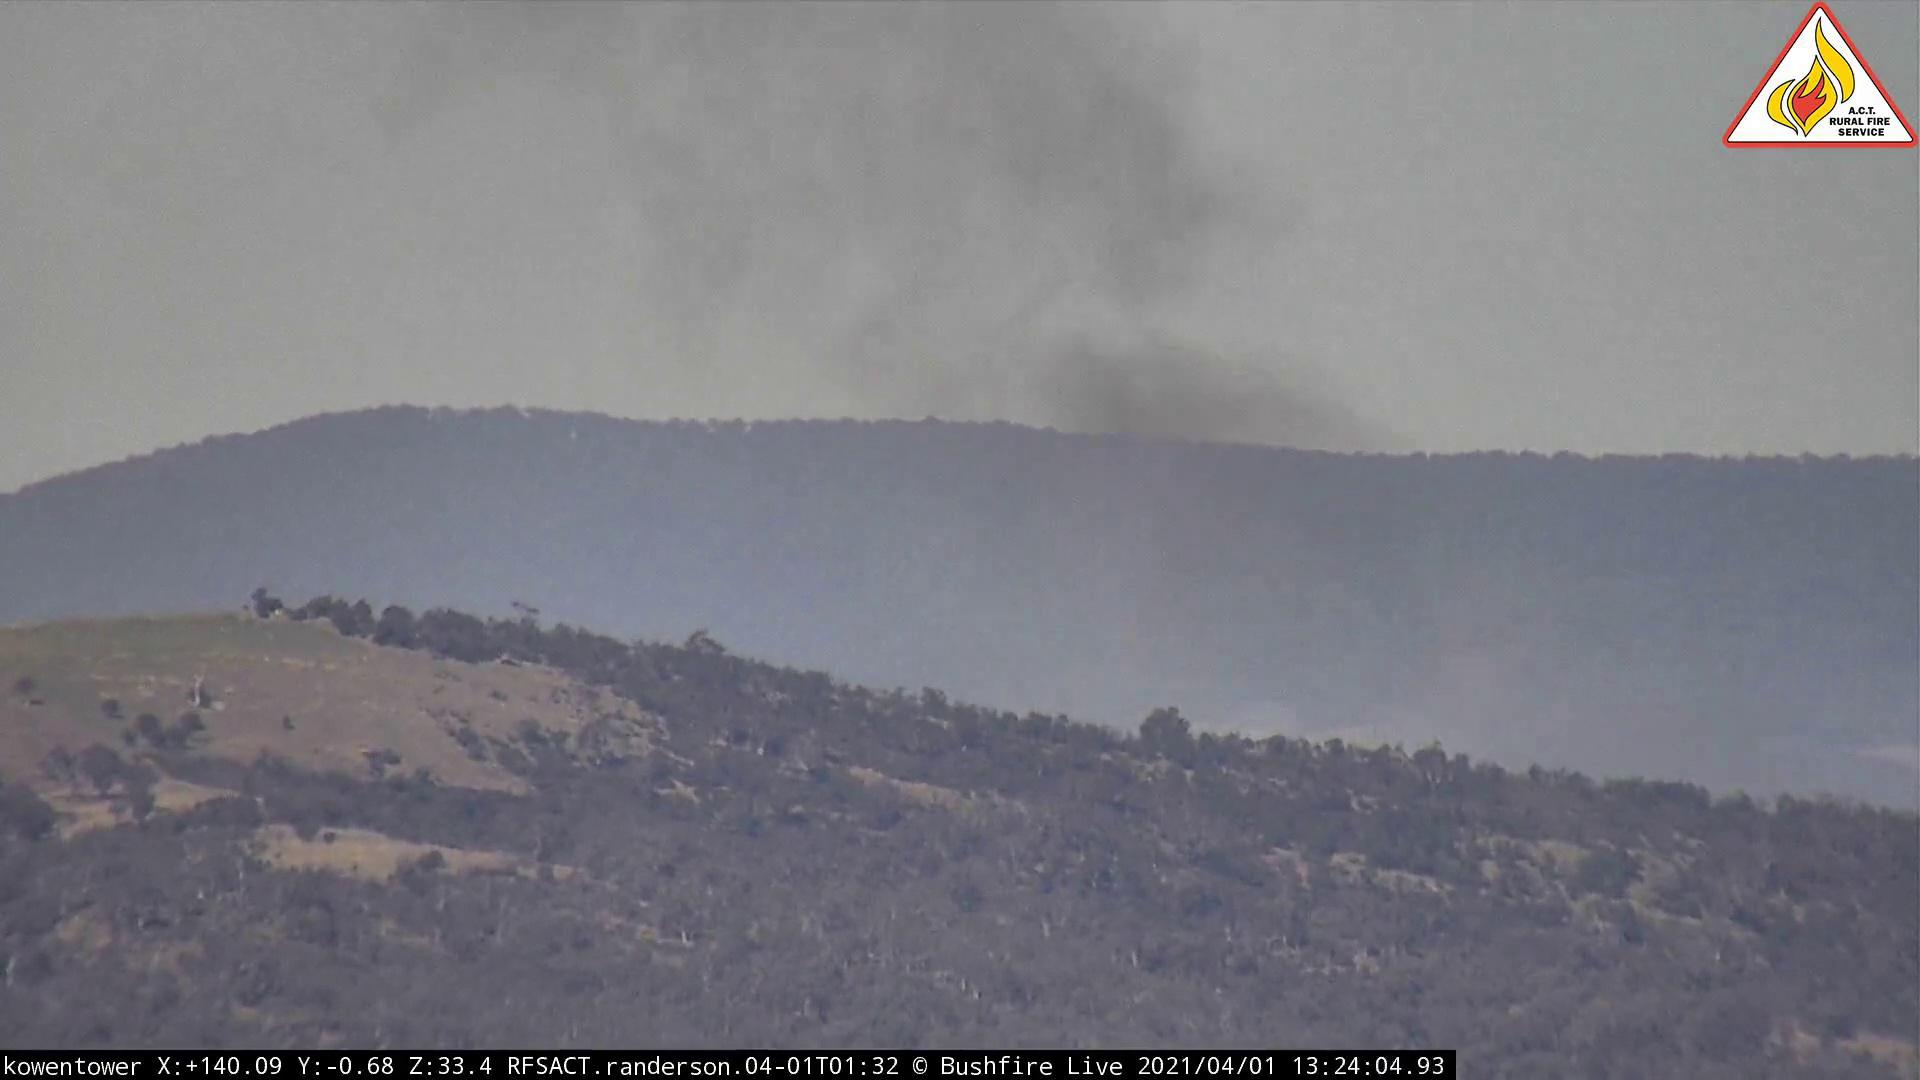Smoke: (342, 3, 1582, 800)
